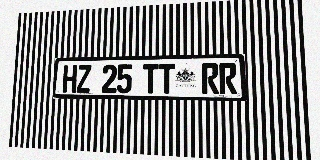2: (102, 64, 117, 93)
5: (117, 64, 132, 93)
H: (62, 65, 77, 93)
R: (219, 63, 237, 94), (202, 63, 219, 94)
T: (143, 64, 159, 94), (159, 64, 175, 94)
Z: (76, 65, 91, 93)
